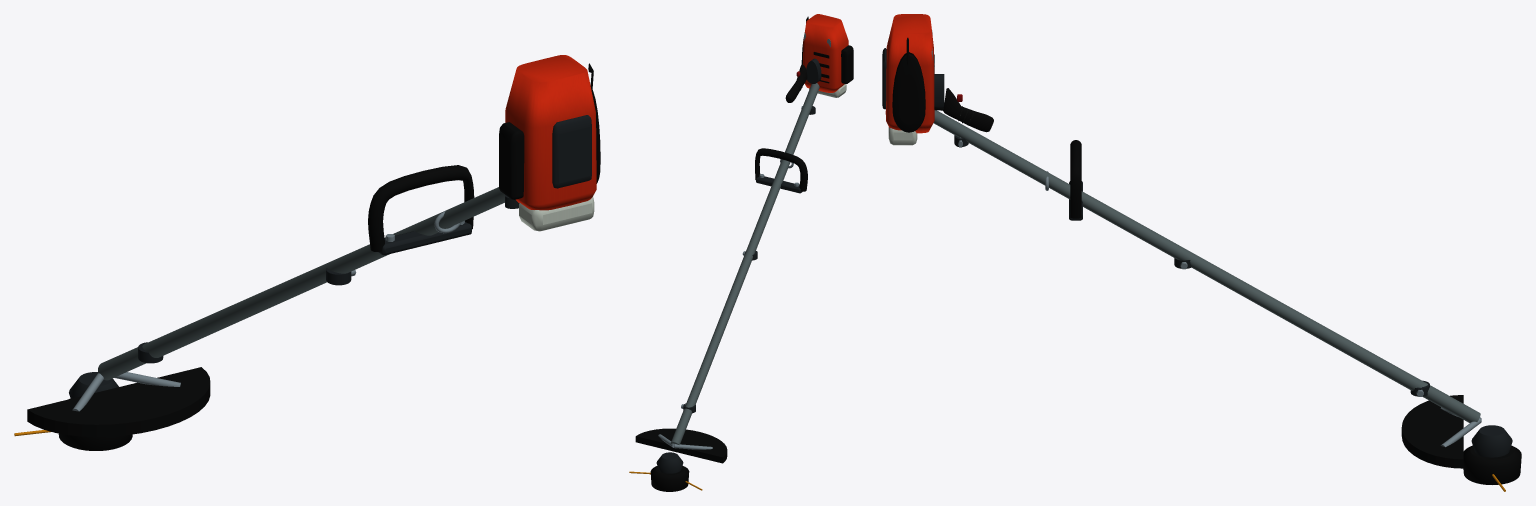
Rendered from StraightShaftTrimmer.gltf.
3 views of the same model, side by side, from view 1: azimuth 30°, elevation 25°; view 2: azimuth 150°, elevation 25°; view 3: azimuth 270°, elevation 25° (orthographic). The views are drawn at different scales.
Parts seen in each view (by area): view 1: StraightShaftTrimmer__Body, StraightShaftTrimmer__Spool; view 2: StraightShaftTrimmer__Body, StraightShaftTrimmer__Spool; view 3: StraightShaftTrimmer__Body, StraightShaftTrimmer__Spool.
Part boxes in pixels (x1,y1,x2,y2): StraightShaftTrimmer__Body: (27, 55, 600, 436); StraightShaftTrimmer__Spool: (14, 398, 132, 450); StraightShaftTrimmer__Body: (635, 14, 853, 473); StraightShaftTrimmer__Spool: (629, 465, 702, 491); StraightShaftTrimmer__Body: (882, 14, 1512, 468); StraightShaftTrimmer__Spool: (1463, 445, 1521, 491).
Bounding box in the file's own units: 0.4056 × 1.23 × 1.48.
Materials: 1 (1 with a texture image).
